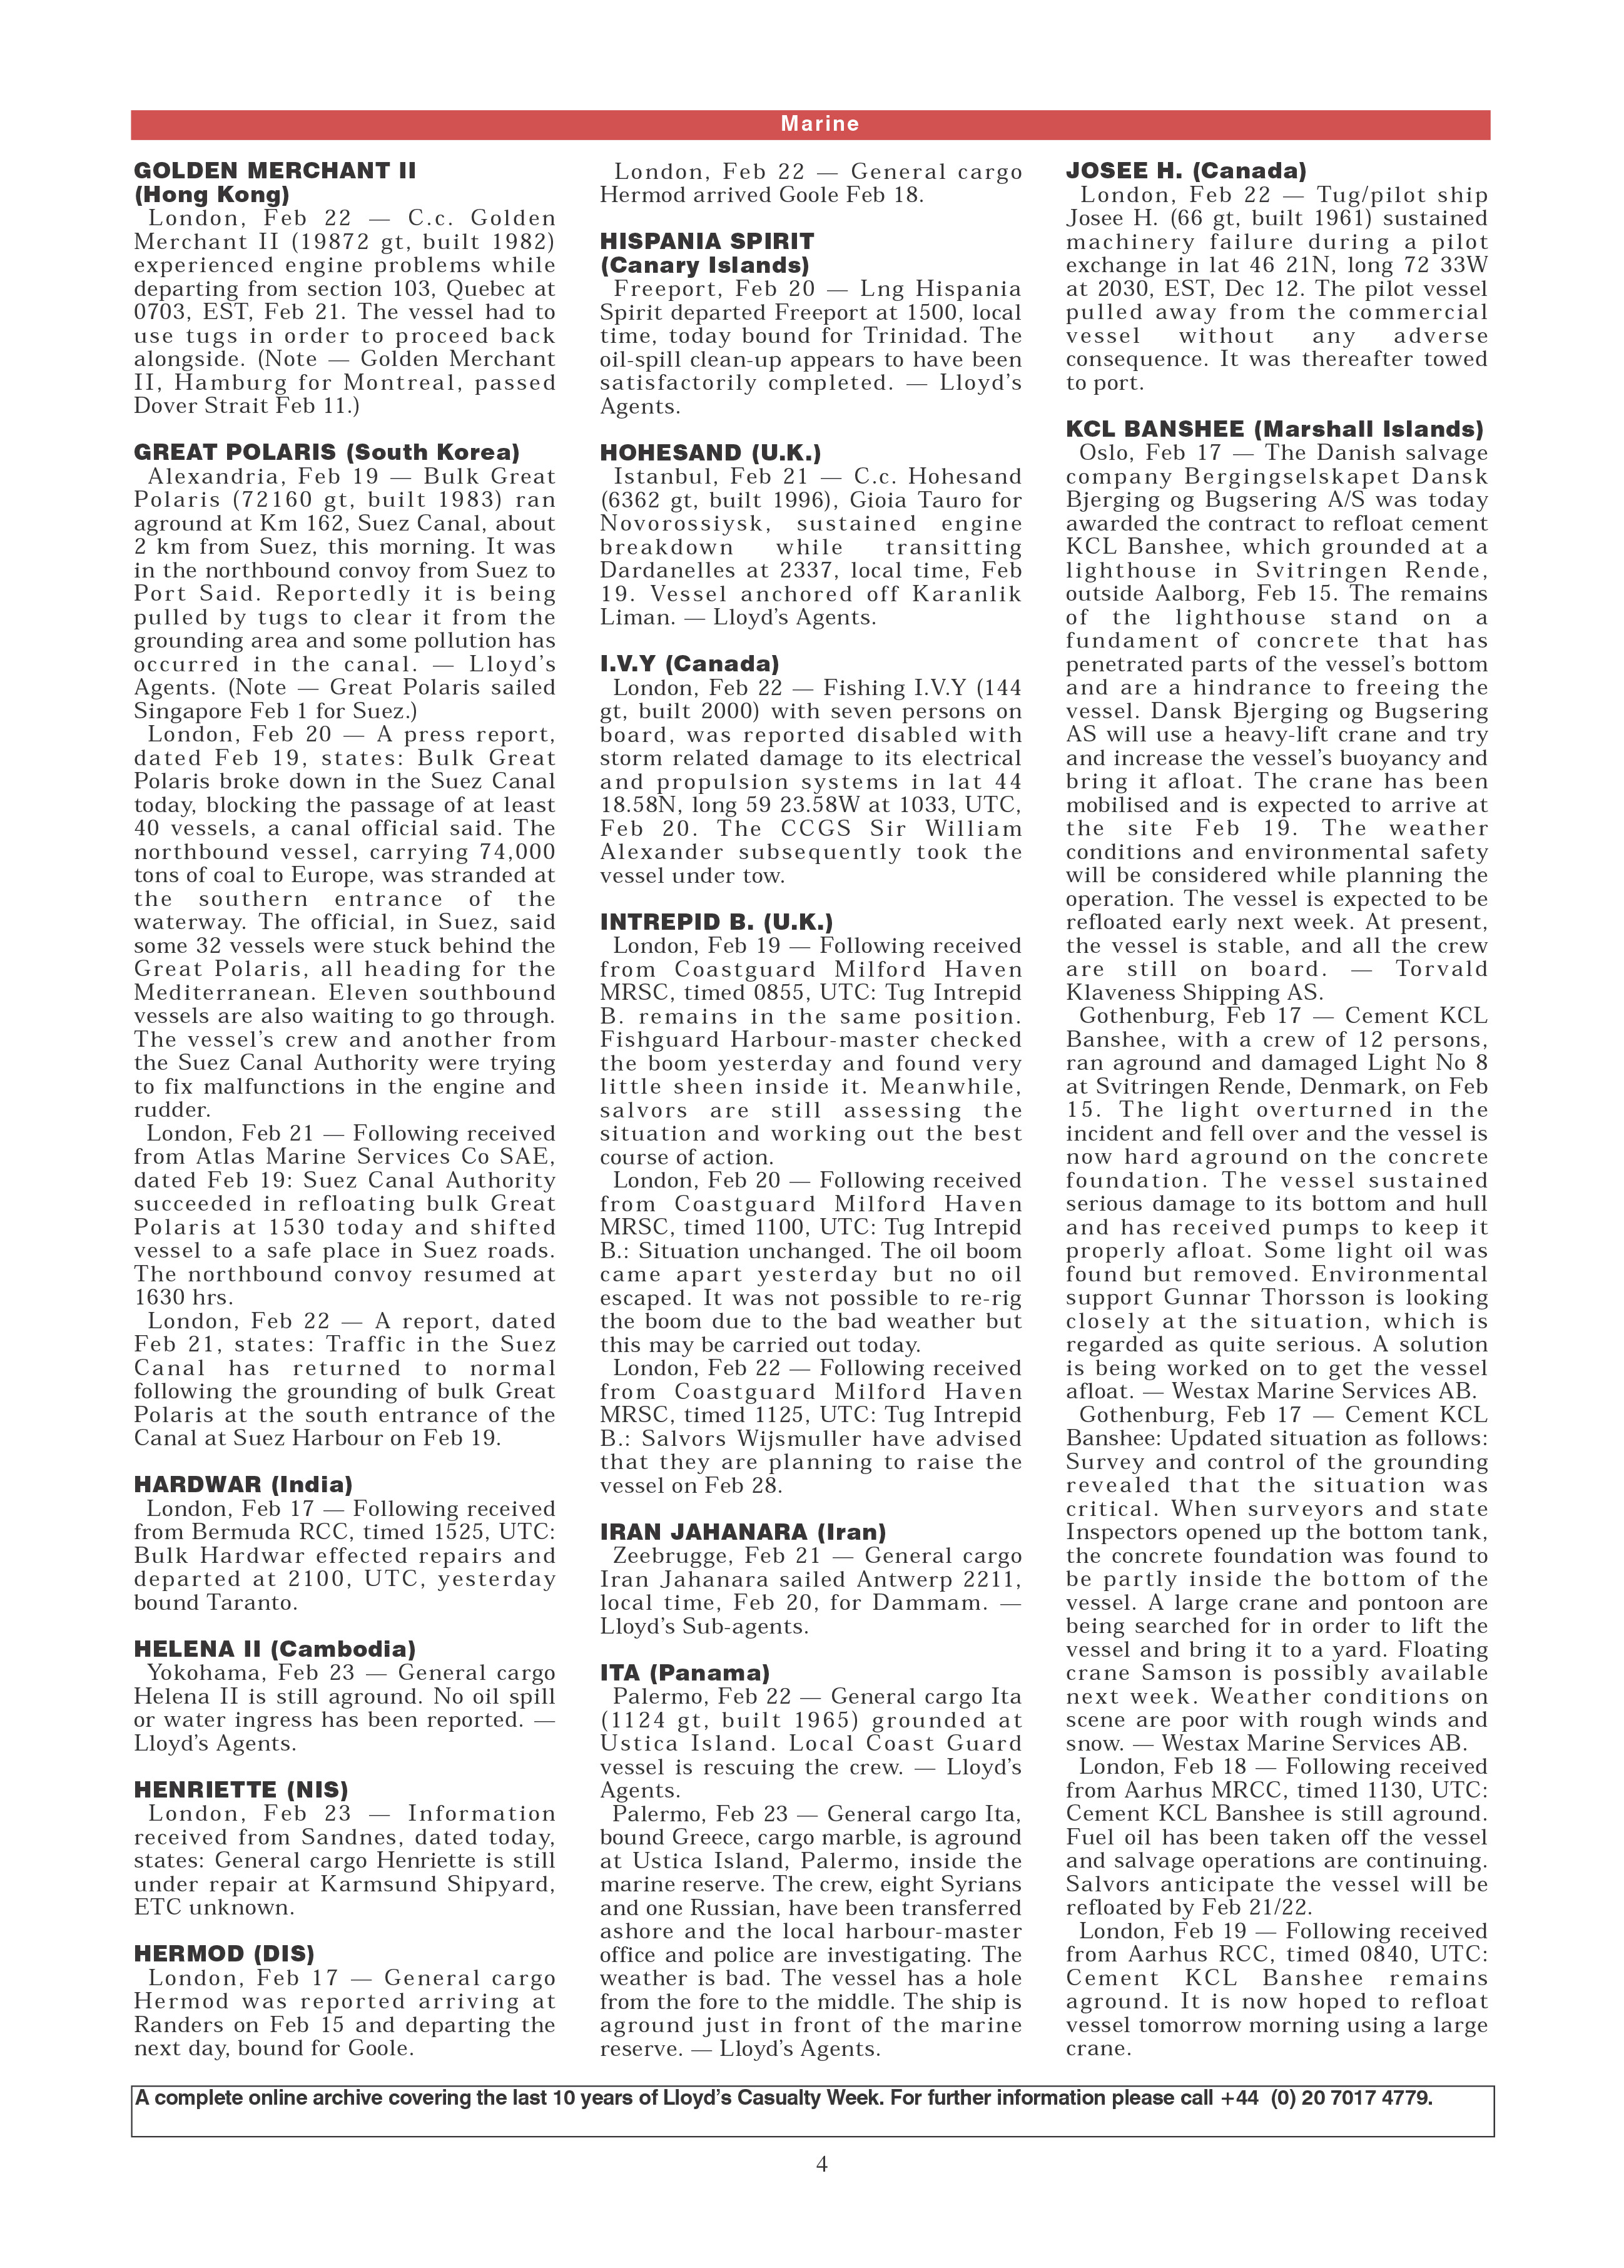section: (130, 160, 410, 206), (603, 1505, 893, 1549), (137, 436, 518, 466), (1062, 417, 1478, 443), (599, 230, 812, 276), (137, 1465, 369, 1505), (134, 1628, 424, 1658), (606, 1519, 889, 1549), (130, 1772, 357, 1806), (599, 905, 830, 935), (603, 647, 779, 682), (1079, 156, 1318, 179), (130, 1941, 316, 1969), (603, 440, 826, 461), (599, 1661, 775, 1683)
text: (1072, 454, 1485, 2055), (137, 480, 555, 1456), (606, 949, 1030, 1486), (603, 1688, 1023, 2052), (1072, 179, 1492, 399), (612, 689, 1019, 883), (130, 220, 550, 403), (603, 473, 1023, 629), (606, 290, 1026, 420), (146, 1516, 554, 1621), (144, 1818, 550, 1922), (141, 1978, 554, 2071), (137, 1668, 555, 1755), (603, 1558, 1016, 1642), (130, 2085, 1429, 2112), (592, 160, 1026, 209)
